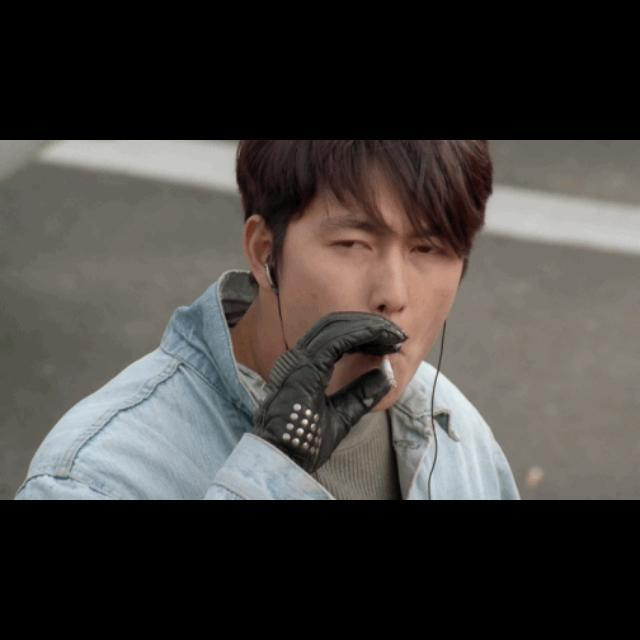rokok: (378, 350, 398, 388)
